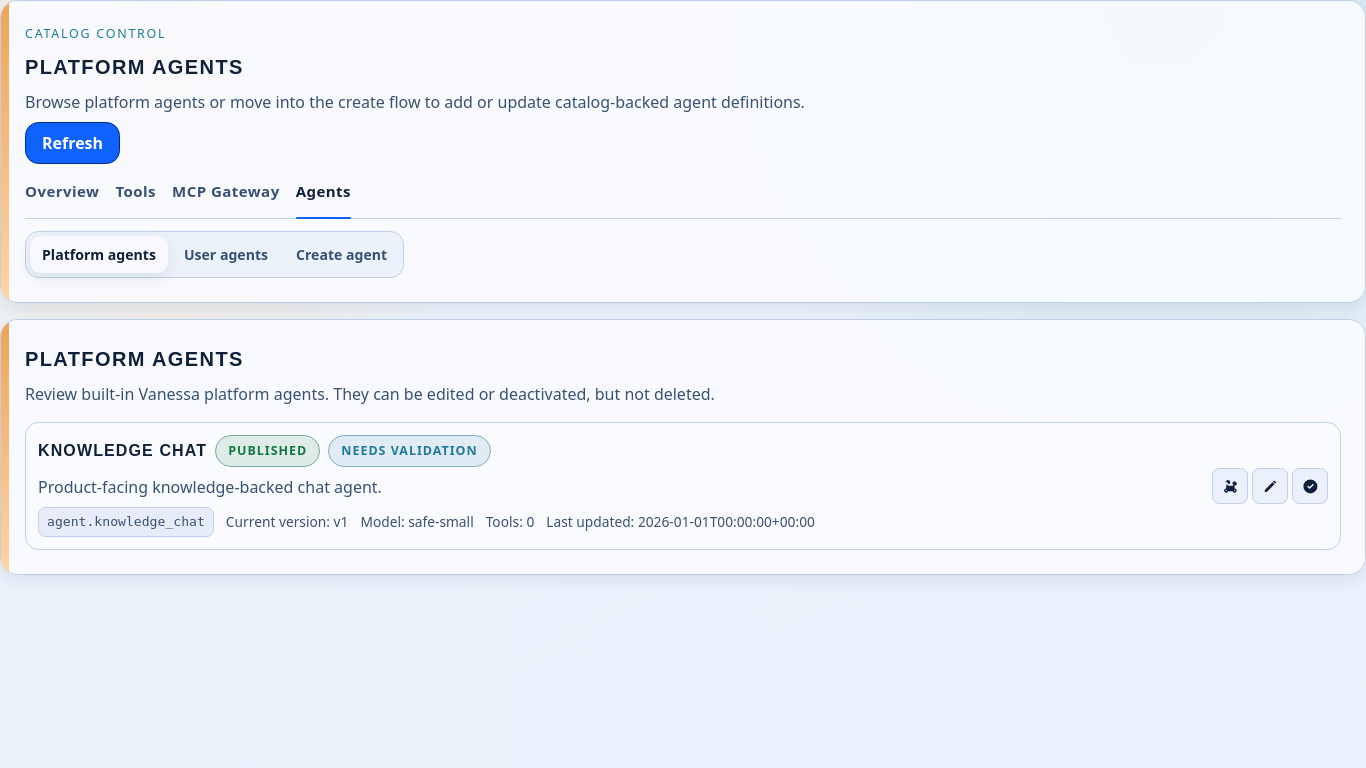
CatalogControlPage › splits platform agents from user agents
This screenshot has width=1366, height=768.
Expected: the heading "Knowledge Chat" is shown, [38,439,207,463]
Expected: the list item "Knowledge Chat" is shown, [25,422,1341,550]
Click the link "User agents".
click(226, 255)  # box [184,245,268,264]
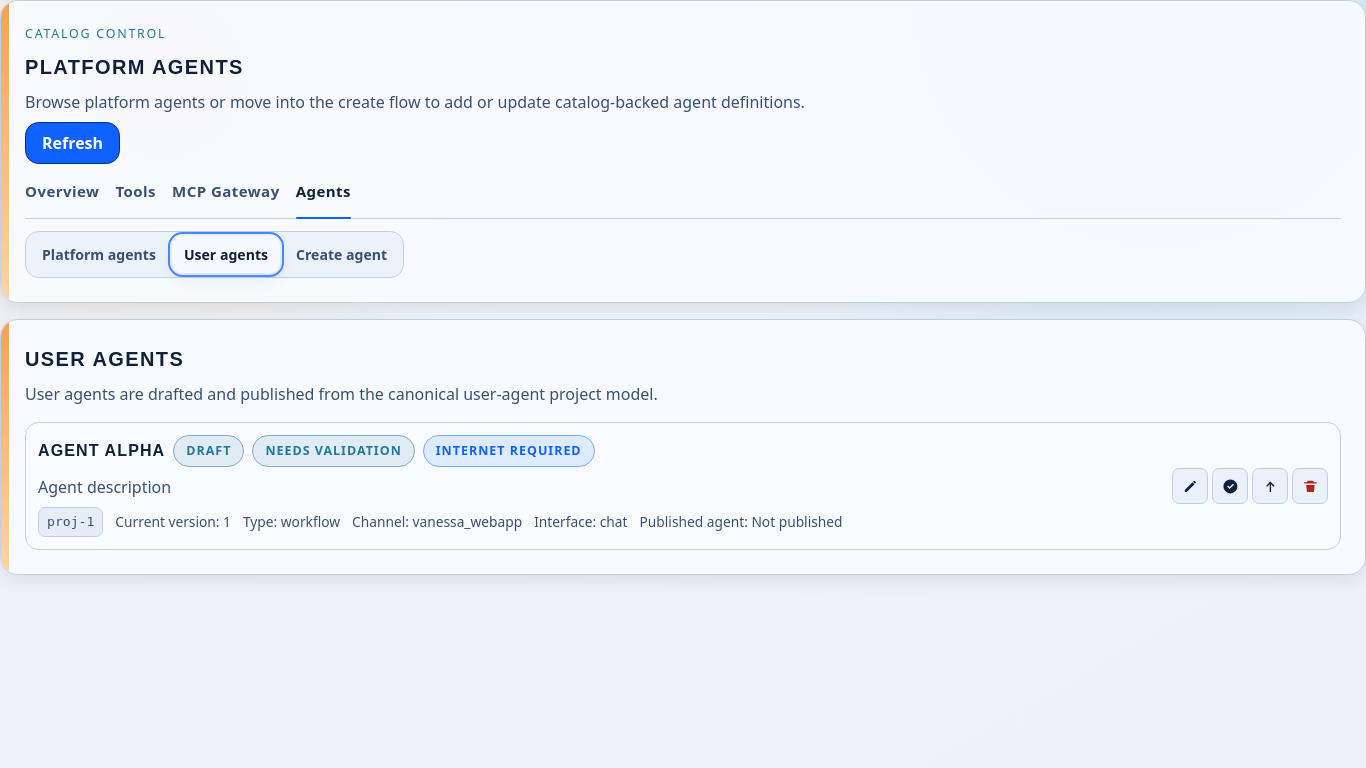
Expected: the heading "Agent Alpha" is shown, [38,439,165,463]
Expected: the heading "Knowledge Chat" is gone
Expected: the list item "Agent Alpha" is shown, [25,422,1341,550]
